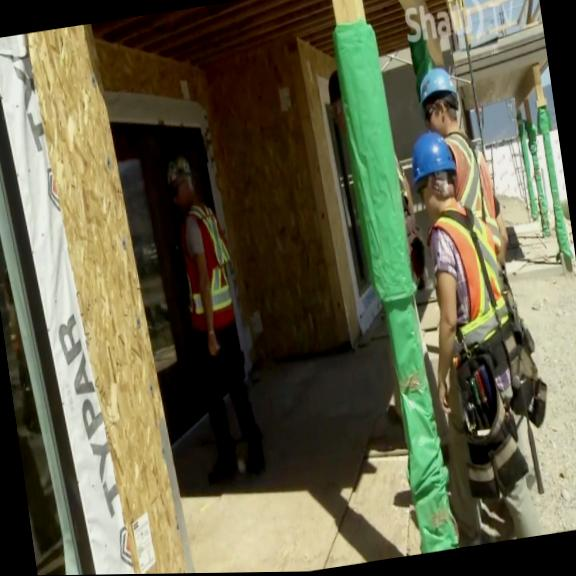safety_vest: (422, 193, 516, 359), (173, 197, 239, 330), (444, 128, 502, 255)
